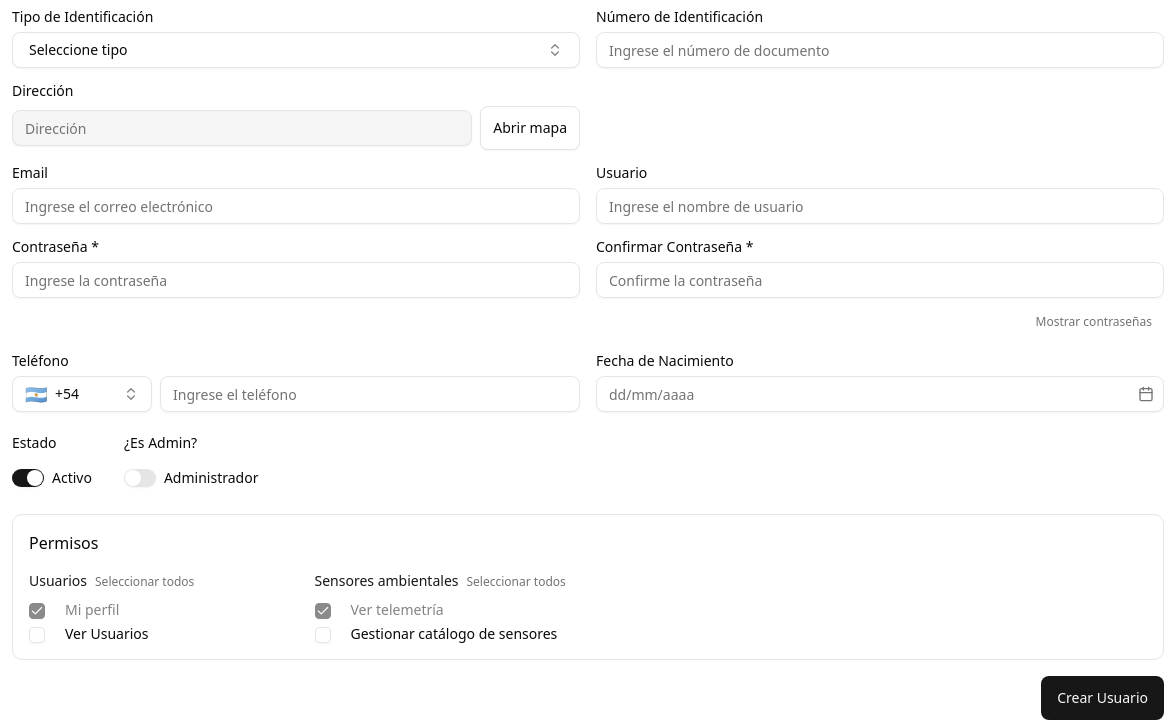
Test: UserForm › conserva la validación requerida al crear
The image size is (1176, 720).
(page scrolled)
Step 1. Click the button "Crear Usuario" → point(1103, 698), box top-left (1041, 676), bottom-right (1164, 719)
(page scrolled)
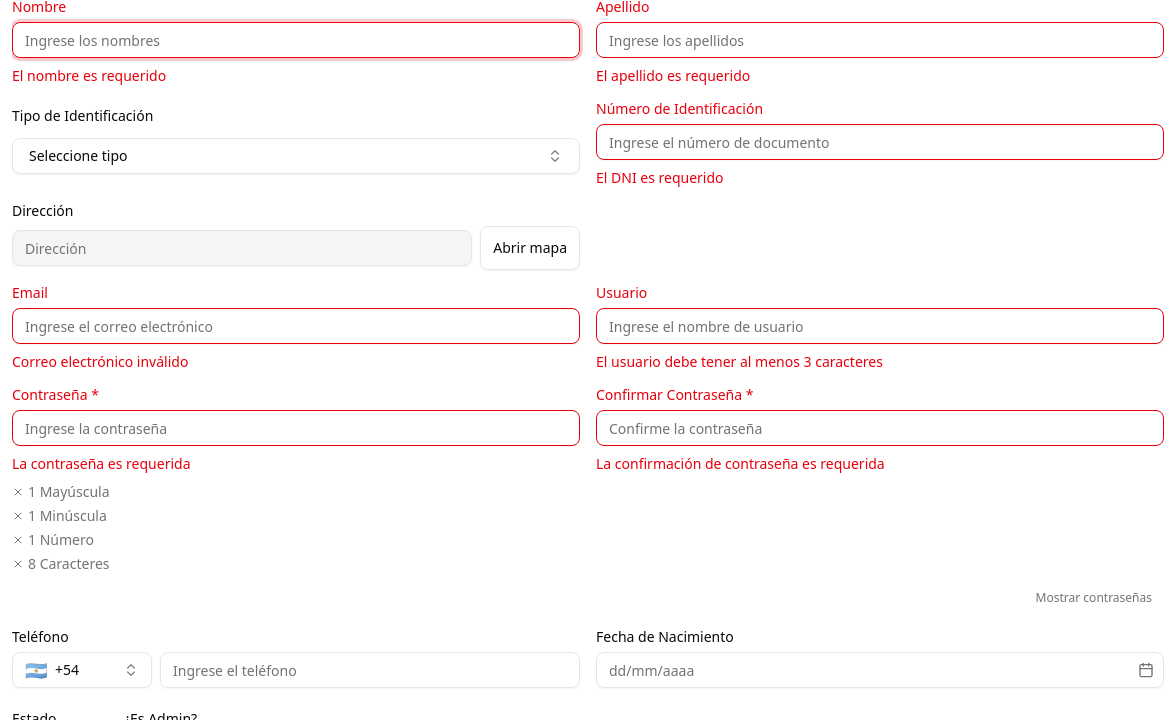
Expected: the text "El nombre es requerido" is shown, top-left (12, 66), bottom-right (166, 85)
Expected: the text "La contraseña es requerida" is shown, top-left (12, 454), bottom-right (190, 473)
